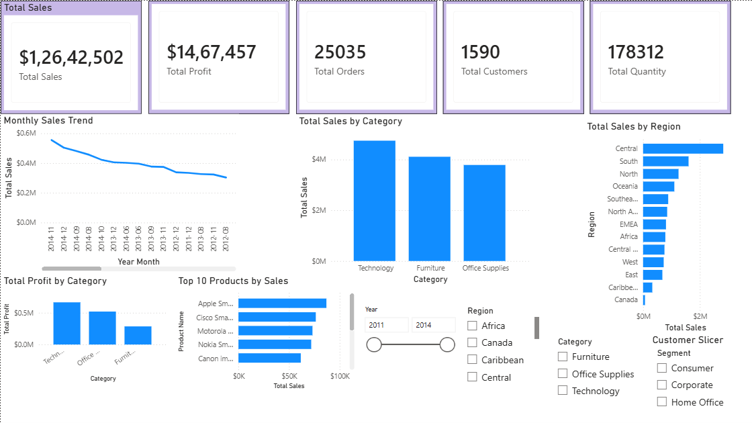

Layout of this report page (visuals, bound fields, positions):
{"tool":"powerbi","page":{"name":"Page 1","canvas":[1280,720],"ordinal":0},"visuals":[{"type":"cardVisual","title":"Total Sales","fields":{"Data":["Global_Superstore2.Total Sales"]},"box":[0,0,240,192.9],"z":1},{"type":"cardVisual","fields":{"Data":["Global_Superstore2.Total Profit"]},"box":[251.4,0,240,192.9],"z":2},{"type":"cardVisual","fields":{"Data":["Global_Superstore2.Total Orders"]},"box":[502.9,0,240,192.9],"z":3},{"type":"cardVisual","fields":{"Data":["Global_Superstore2.Total Customers"]},"box":[752.9,0,240,192.9],"z":4},{"type":"cardVisual","fields":{"Data":["Global_Superstore2.Total Quantity"]},"box":[1002.9,0,240,192.9],"z":5},{"type":"lineChart","title":"Monthly Sales Trend","fields":{"Y":["Global_Superstore2.Total Sales"],"Category":["Date Table.Year Month"]},"box":[0,192.9,405.7,272.9],"z":6},{"type":"clusteredColumnChart","fields":{"Category":["Global_Superstore2.Category"],"Y":["Global_Superstore2.Total Sales"]},"box":[502.9,194.3,402.9,292.9],"z":7},{"type":"clusteredBarChart","fields":{"Category":["Global_Superstore2.Region"],"Y":["Global_Superstore2.Total Sales"]},"box":[992.9,202.9,262.9,367.1],"z":8},{"type":"columnChart","fields":{"Category":["Global_Superstore2.Category"],"Y":["Global_Superstore2.Total Profit"]},"box":[0,465.7,288.6,188.6],"z":9},{"type":"clusteredBarChart","title":"Top 10 Products by Sales","fields":{"Category":["Global_Superstore2.Product Name"],"Y":["Global_Superstore2.Total Sales"]},"box":[297.1,465.7,310,201.4],"z":10},{"type":"slicer","fields":{"Values":["Date Table.Year"]},"box":[607.1,514.3,174.3,105.7],"z":11},{"type":"slicer","fields":{"Values":["Global_Superstore2.Region"]},"box":[781.4,514.3,140,150],"z":12},{"type":"slicer","fields":{"Values":["Global_Superstore2.Category"]},"box":[935.7,567.1,210,118.6],"z":13},{"type":"slicer","title":"Customer Slicer","fields":{"Values":["Global_Superstore2.Segment"]},"box":[1104.3,567.1,151.4,147.1],"z":14}]}

Visuals, with their boxes in screenshot pixels (x1, y1, x2, y2), scaled from the page's 1280x720 canvas onto the 752x423 screenshot:
"Total Sales" cardVisual: select_region(0, 0, 141, 113)
cardVisual - Global_Superstore2.Total Profit: select_region(148, 0, 289, 113)
cardVisual - Global_Superstore2.Total Orders: select_region(295, 0, 436, 113)
cardVisual - Global_Superstore2.Total Customers: select_region(442, 0, 583, 113)
cardVisual - Global_Superstore2.Total Quantity: select_region(589, 0, 730, 113)
"Monthly Sales Trend" lineChart: select_region(0, 113, 238, 274)
clusteredColumnChart - Global_Superstore2.Category x Global_Superstore2.Total Sales: select_region(295, 114, 532, 286)
clusteredBarChart - Global_Superstore2.Region x Global_Superstore2.Total Sales: select_region(583, 119, 738, 335)
columnChart - Global_Superstore2.Category x Global_Superstore2.Total Profit: select_region(0, 274, 170, 384)
"Top 10 Products by Sales" clusteredBarChart: select_region(175, 274, 357, 392)
slicer - Date Table.Year: select_region(357, 302, 459, 364)
slicer - Global_Superstore2.Region: select_region(459, 302, 541, 390)
slicer - Global_Superstore2.Category: select_region(550, 333, 673, 403)
"Customer Slicer" slicer: select_region(649, 333, 738, 420)
